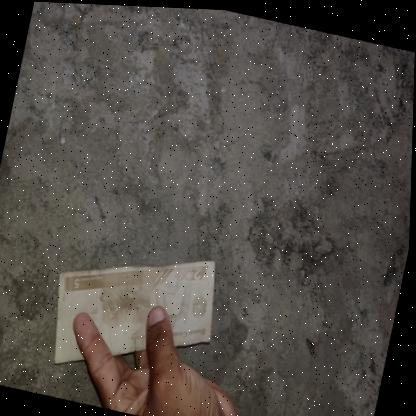five-back-vef: (41, 226, 228, 395)
